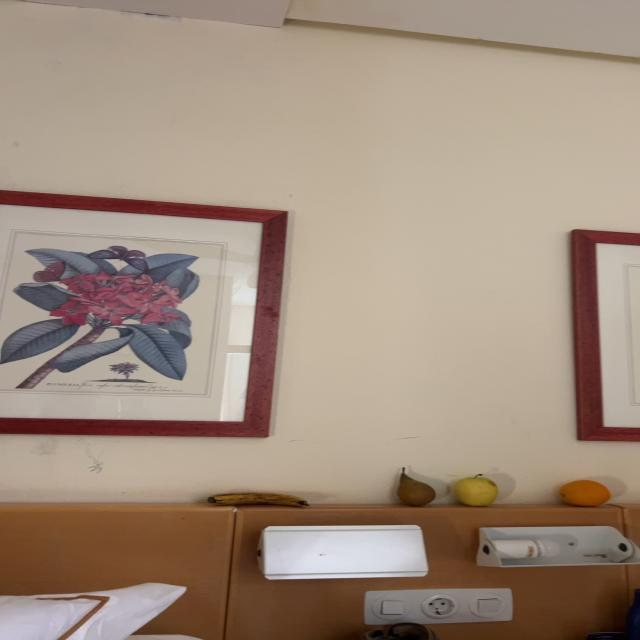apple: (454, 475, 498, 506)
bananas: (209, 492, 308, 506)
orange: (561, 480, 610, 506)
pear: (397, 468, 434, 506)
